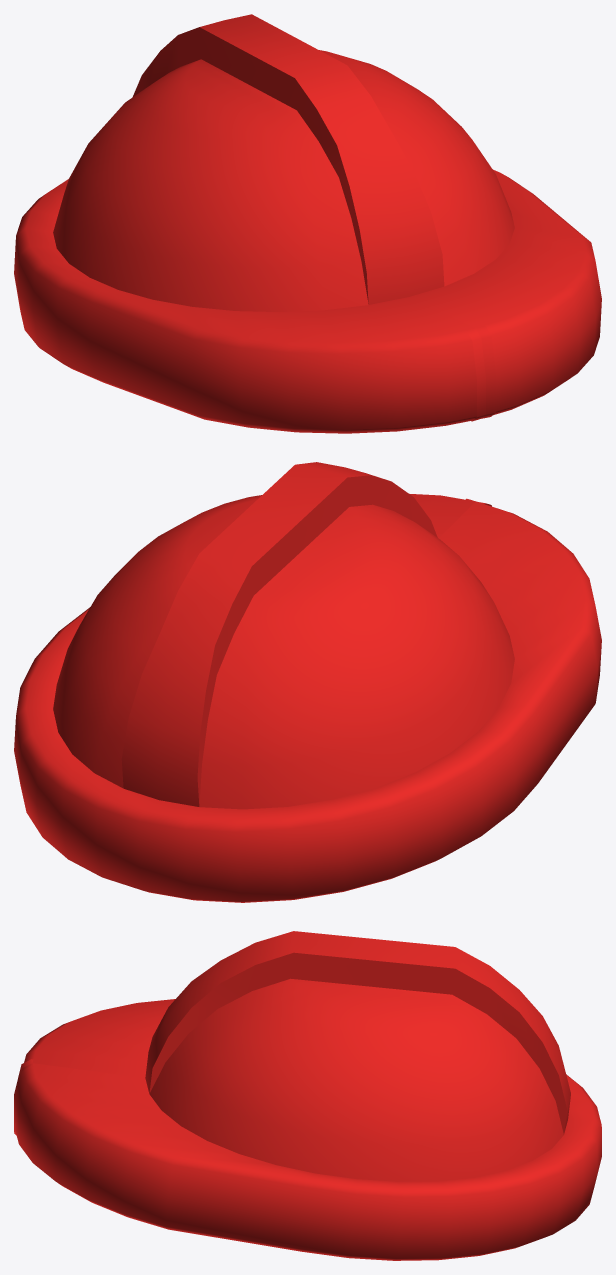
The model's file is Worker.fbx.
3 renders of one model, top to bottom at view 1: azimuth 30°, elevation 25°; view 2: azimuth 150°, elevation 25°; view 3: azimuth 270°, elevation 25°, orthographic. The views are drawn at different scales.
Parts seen in each view (by area): view 1: Worker; view 2: Worker; view 3: Worker.
Boxes of the visible parts, x1=… form: Worker: x1=14, y1=14, x2=601, y2=433; Worker: x1=14, y1=462, x2=601, y2=902; Worker: x1=14, y1=931, x2=601, y2=1260.
Bounding box in the file's own units: 55.81 × 34.44 × 73.33.
